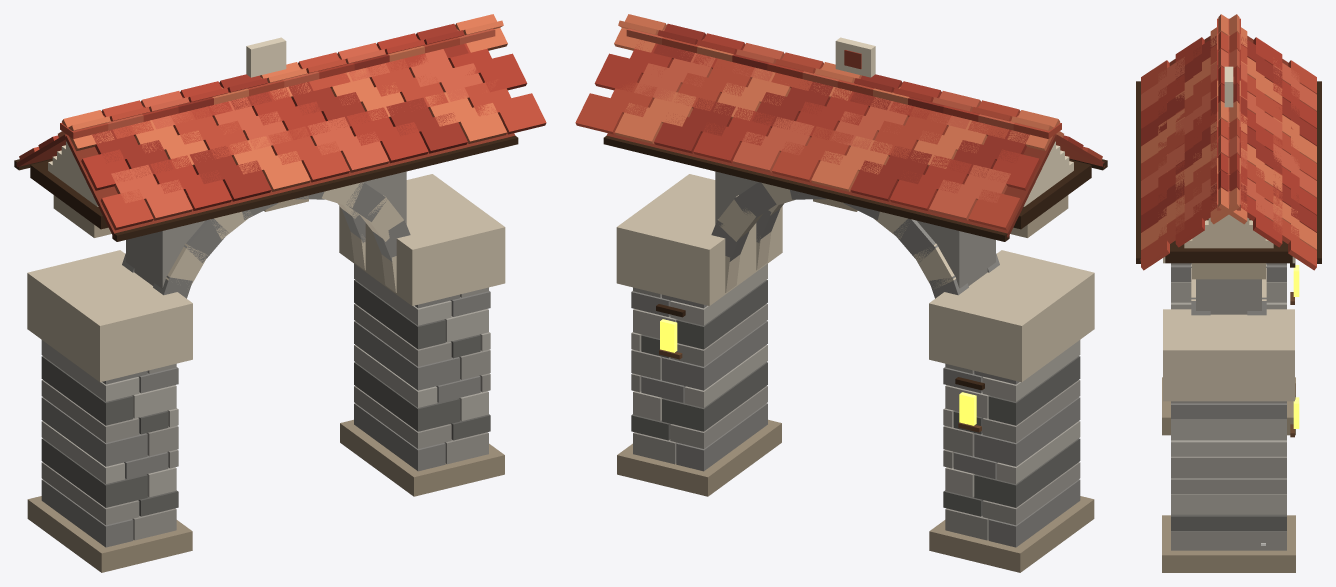
The model's file is vn_building_town_gate.glb.
3 views of the same model, side by side, from view 1: azimuth 30°, elevation 25°; view 2: azimuth 150°, elevation 25°; view 3: azimuth 270°, elevation 25° (orthographic). The views are drawn at different scales.
Visible parts, largest first — view 1: gate_roof, gate_stone, gate_trim, gate_wood; view 2: gate_roof, gate_stone, gate_trim, gate_wood, gate_lamps; view 3: gate_roof, gate_stone, gate_trim, gate_wood, gate_lamps.
Boxes of the visible parts, <box> form: gate_roof: <box>16,14,546,237</box>; gate_stone: <box>41,171,490,547</box>; gate_trim: <box>27,37,505,572</box>; gate_wood: <box>14,135,518,241</box>; gate_roof: <box>575,14,1105,237</box>; gate_stone: <box>631,171,1080,547</box>; gate_trim: <box>616,37,1094,572</box>; gate_wood: <box>603,135,1107,432</box>; gate_lamps: <box>660,319,976,425</box>; gate_roof: <box>1140,14,1317,270</box>; gate_stone: <box>1171,263,1286,550</box>; gate_trim: <box>1162,66,1295,572</box>; gate_wood: <box>1136,81,1321,437</box>; gate_lamps: <box>1293,265,1299,428</box>.
Size of the model in its own units: 4.2 by 4.19 by 1.72.
